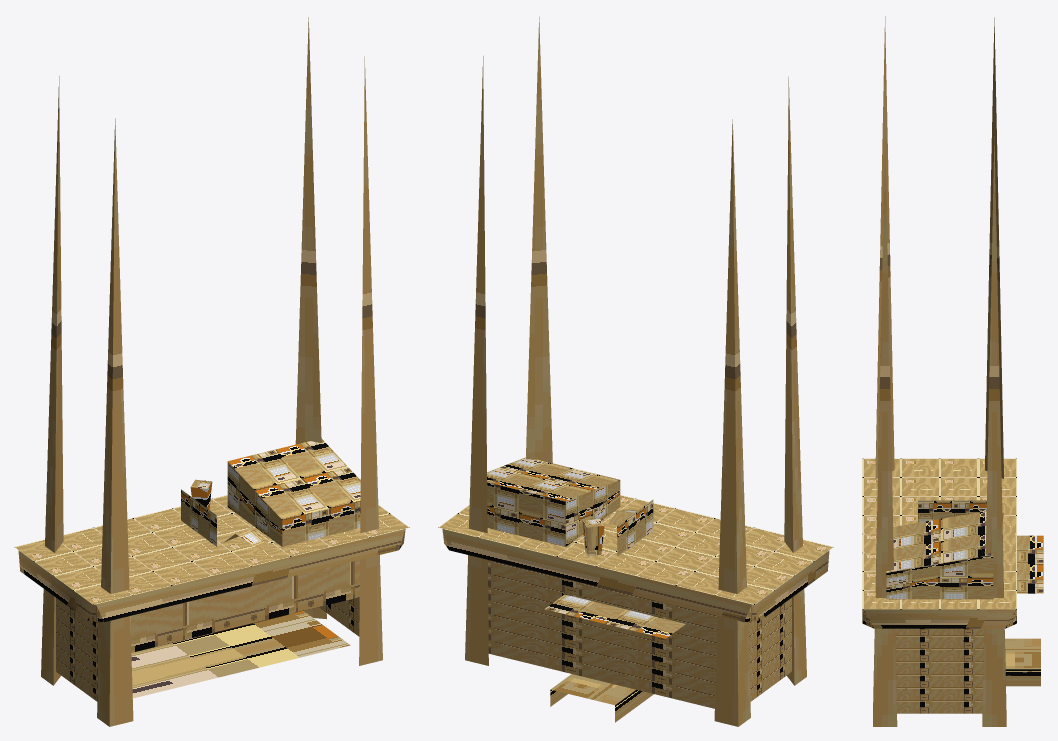
File: 3891kg3_shp13.gltf
The picture shows the model from 3 angles, left to right: view 1: azimuth 30°, elevation 25°; view 2: azimuth 150°, elevation 25°; view 3: azimuth 270°, elevation 25°; orthographic projection. The views are drawn at different scales.
Visible parts, largest first — view 1: 3891kg3_shp13; view 2: 3891kg3_shp13; view 3: 3891kg3_shp13.
Part boxes in pixels (bbox=[...]): 3891kg3_shp13: bbox=[14, 17, 409, 726]; 3891kg3_shp13: bbox=[438, 16, 833, 726]; 3891kg3_shp13: bbox=[862, 16, 1043, 726].
Size of the model in its own units: 1.8 by 3.33 by 0.9141.
3 materials, 3 textured.
